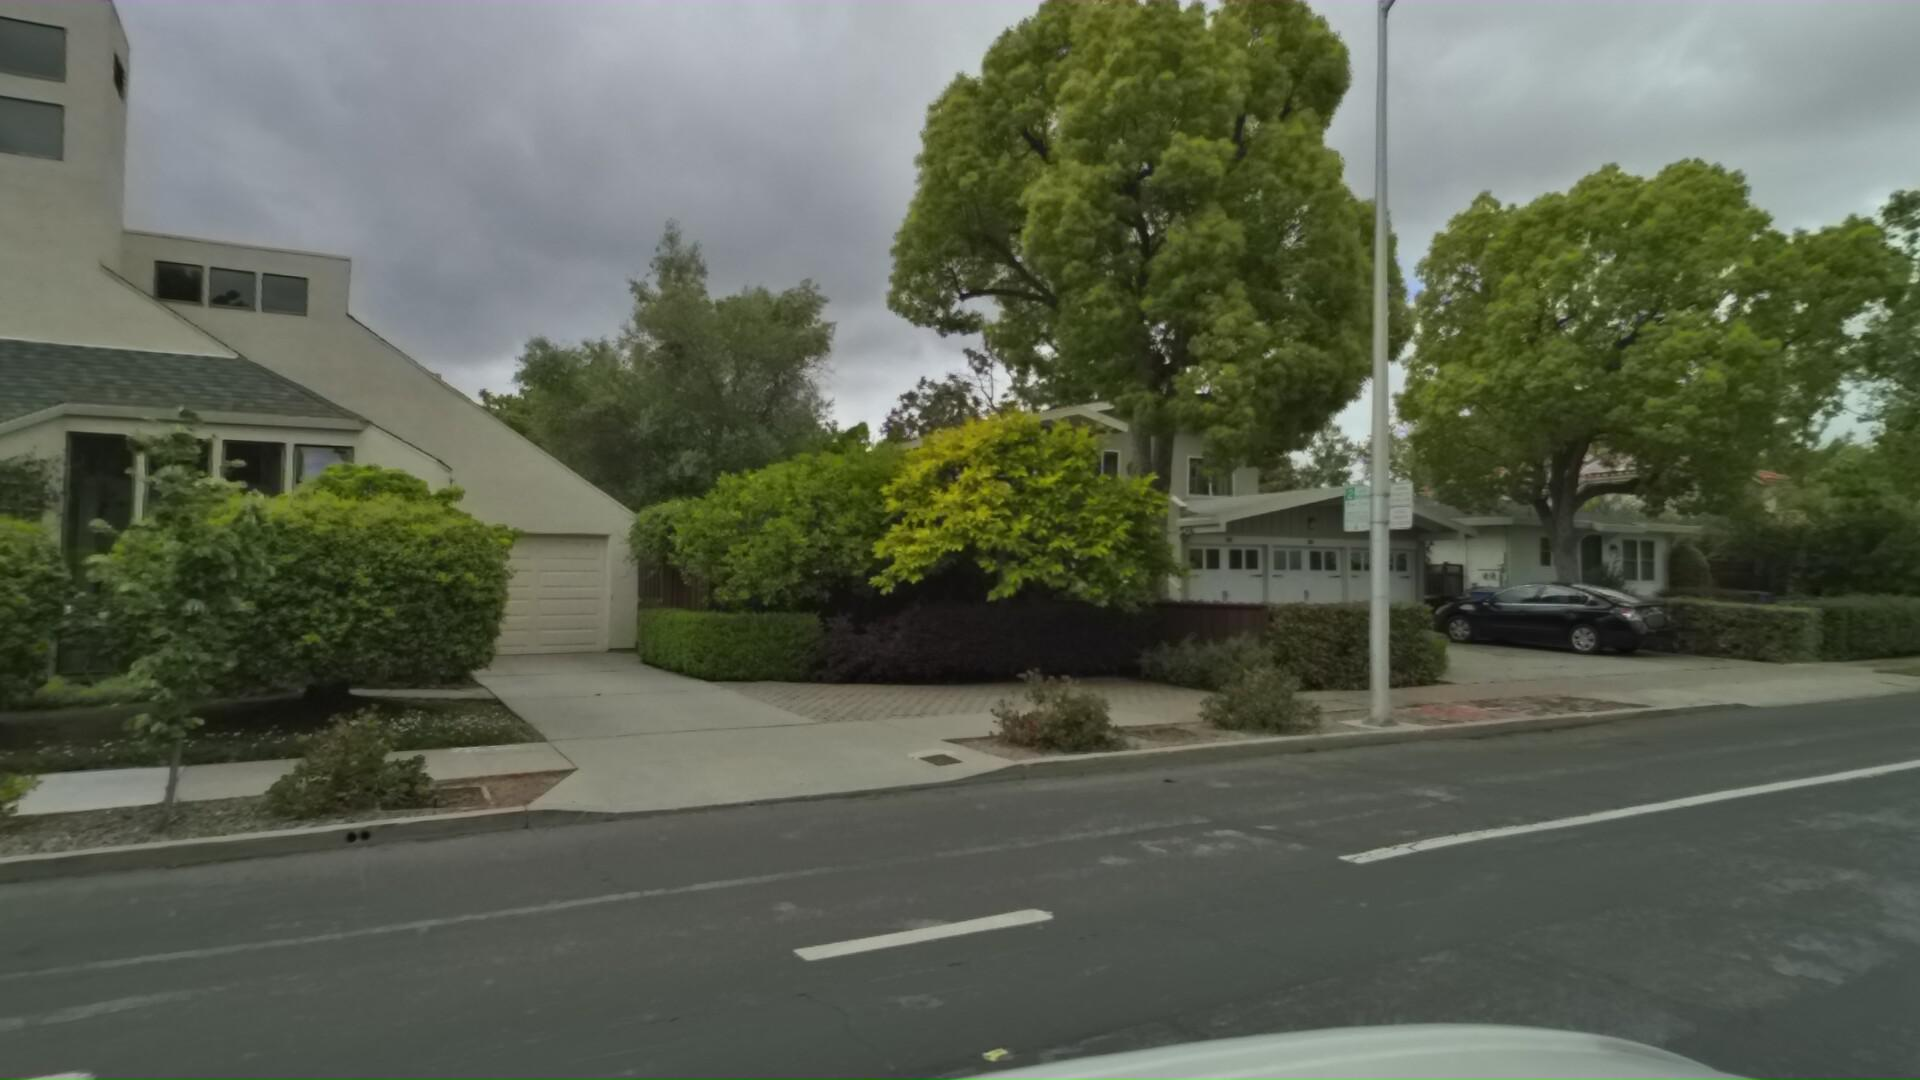car: (1414, 572, 1673, 655)
